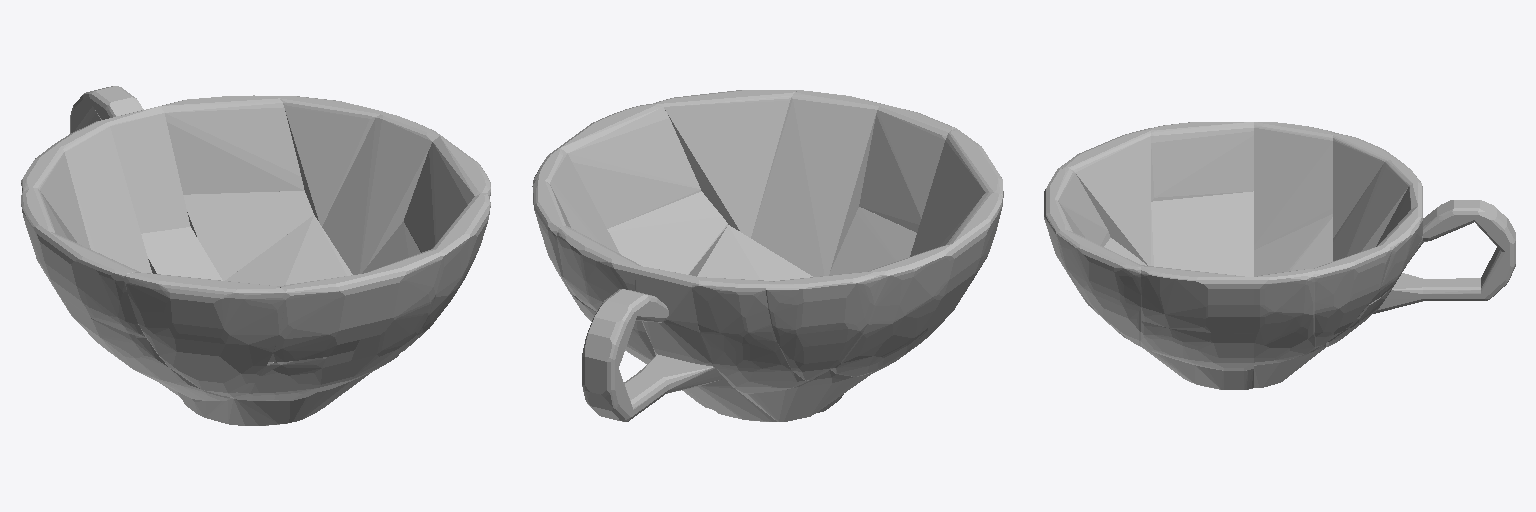
URDF robot description (root):
<?xml version="1.0"?>
<robot name="root">
  <link name="base_link">
    <visual>
      <origin xyz="0 0 0" rpy="0 0 0" />
      <geometry>
        <mesh filename="../meshes/unidex_sem_DrinkingUtensil-4361d71e2fb5206b3db3d3acce75295_008.obj" scale="1.0000E+00 1.0000E+00 1.0000E+00" />
      </geometry>
      <material name="">
        <color rgba="7.50E-01 7.50E-01 7.50E-01 1" />
      </material>
    </visual>
    <collision>
      <origin xyz="0 0 0" rpy="0 0 0" />
      <geometry>
        <mesh filename="../meshes/unidex_sem_DrinkingUtensil-4361d71e2fb5206b3db3d3acce75295_008.obj" scale="1.0000E+00 1.0000E+00 1.0000E+00" />
      </geometry>
    </collision>
  </link>
</robot>

--- What the picture shows (computed from the rendered views, not written in the file) ---
Views: 3 orthographic renders of the robot side by side, from view 1: azimuth 30°, elevation 25°; view 2: azimuth 150°, elevation 25°; view 3: azimuth 270°, elevation 25°.
Model root with 1 links and 0 joints (none), rooted at base_link, posed all joints at 0.
Links seen in each view (by area): view 1: base_link; view 2: base_link; view 3: base_link.
Boxes of the visible links, x1=… form: base_link: x1=21, y1=86, x2=490, y2=425; base_link: x1=532, y1=90, x2=1003, y2=421; base_link: x1=1044, y1=122, x2=1515, y2=389.
Bounding box of the posed robot: 0.1171 × 0.1456 × 0.057 m (x, y, z).
1 mesh visuals loaded from 1 distinct referenced files (1 OBJ).
